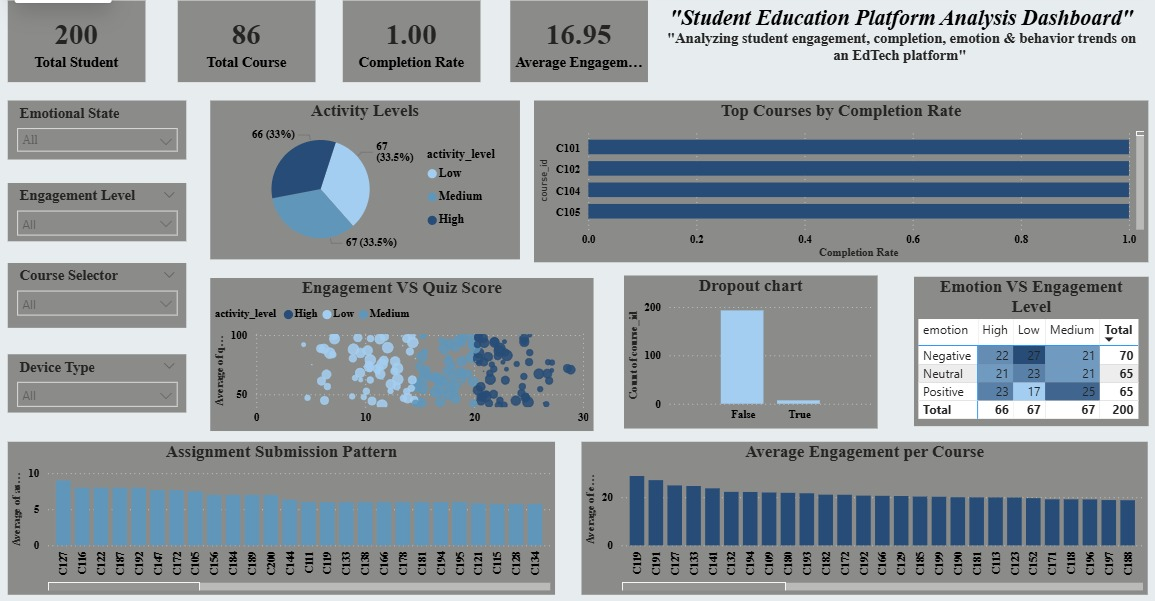

The dashboard page shown, as its layout file describes it:
{"tool":"powerbi","page":{"name":"Page 1","canvas":[1280,720],"ordinal":0},"visuals":[{"type":"card","fields":{"Values":["Sheet1.Total Student"]},"box":[9.8,46.6,150.8,89.5],"z":0},{"type":"card","fields":{"Values":["Sheet1.Completion Rate"]},"box":[377.6,46.6,150.8,89.5],"z":1000},{"type":"card","fields":{"Values":["Sheet1.Total Course"]},"box":[196.2,46.6,150.8,89.5],"z":2000},{"type":"card","fields":{"Values":["Sheet1.Average Engagement"]},"box":[561.5,46.6,150.8,89.5],"z":3000},{"type":"pieChart","title":"Activity Levels ","fields":{"Category":["Sheet1.activity_level"],"Y":["CountNonNull(Sheet1.student_id)"]},"box":[231.7,156.9,339.6,174.1],"z":4000},{"type":"clusteredBarChart","title":"Top Courses by Completion Rate","fields":{"Category":["Sheet1.course_id"],"Y":["Sheet1.Completion Rate"]},"box":[587.3,156.9,674.3,177.8],"z":5000},{"type":"clusteredColumnChart","title":"Average Engagement per Course","fields":{"Category":["Sheet1.course_id"],"Y":["Avg(Sheet1.engagement_score)"]},"box":[640,530.9,621.6,168],"z":6000},{"type":"scatterChart","title":"Engagement VS Quiz Score ","fields":{"X":["Avg(Sheet1.engagement_score)"],"Y":["Avg(Sheet1.quiz_score)"],"Series":["Sheet1.activity_level"],"Size":["Avg(Sheet1.assignments)"],"Category":["Sheet1.student_id"]},"box":[231.7,350.7,420.5,168],"z":7000},{"type":"clusteredColumnChart","title":"Assignment Submission Pattern","fields":{"Category":["Sheet1.course_id"],"Y":["Avg(Sheet1.assignments)"]},"box":[9.8,530.9,600.8,168],"z":8000},{"type":"clusteredColumnChart","title":"Dropout chart","fields":{"Category":["Sheet1.dropout_flag"],"Y":["CountNonNull(Sheet1.course_id)"]},"box":[686.6,348.2,278.3,168],"z":9000},{"type":"pivotTable","title":"Emotion VS Engagement Level","fields":{"Rows":["Sheet1.emotion"],"Columns":["Sheet1.activity_level"],"Values":["CountNonNull(Sheet1.student_id)"]},"box":[1004.1,349.4,257.5,164.3],"z":10000},{"type":"slicer","fields":{"Values":["Sheet1.course_id"]},"box":[9.8,334.7,196.2,71.1],"z":11000},{"type":"slicer","fields":{"Values":["Sheet1.activity_level"]},"box":[9.8,246.4,196.2,63.8],"z":12000},{"type":"slicer","fields":{"Values":["Sheet1.emotion"]},"box":[9.8,156.9,196.2,65],"z":13000},{"type":"slicer","fields":{"Values":["Sheet1.device"]},"box":[9.8,435.2,196.2,63.8],"z":14000},{"type":"textbox","box":[720.9,46.6,540.7,78.5],"z":14001}]}

Visuals, with their boxes on the page's 1280x720 design canvas (x1, y1, x2, y2). These are canvas units, not pixel positions in the 1155x601 screenshot, which may show the page scaled, cropped or inside an application window:
card - Sheet1.Total Student: BBox(10, 47, 161, 136)
card - Sheet1.Completion Rate: BBox(378, 47, 528, 136)
card - Sheet1.Total Course: BBox(196, 47, 347, 136)
card - Sheet1.Average Engagement: BBox(562, 47, 712, 136)
"Activity Levels " pieChart: BBox(232, 157, 571, 331)
"Top Courses by Completion Rate" clusteredBarChart: BBox(587, 157, 1262, 335)
"Average Engagement per Course" clusteredColumnChart: BBox(640, 531, 1262, 699)
"Engagement VS Quiz Score " scatterChart: BBox(232, 351, 652, 519)
"Assignment Submission Pattern" clusteredColumnChart: BBox(10, 531, 611, 699)
"Dropout chart" clusteredColumnChart: BBox(687, 348, 965, 516)
"Emotion VS Engagement Level" pivotTable: BBox(1004, 349, 1262, 514)
slicer - Sheet1.course_id: BBox(10, 335, 206, 406)
slicer - Sheet1.activity_level: BBox(10, 246, 206, 310)
slicer - Sheet1.emotion: BBox(10, 157, 206, 222)
slicer - Sheet1.device: BBox(10, 435, 206, 499)
textbox: BBox(721, 47, 1262, 125)
